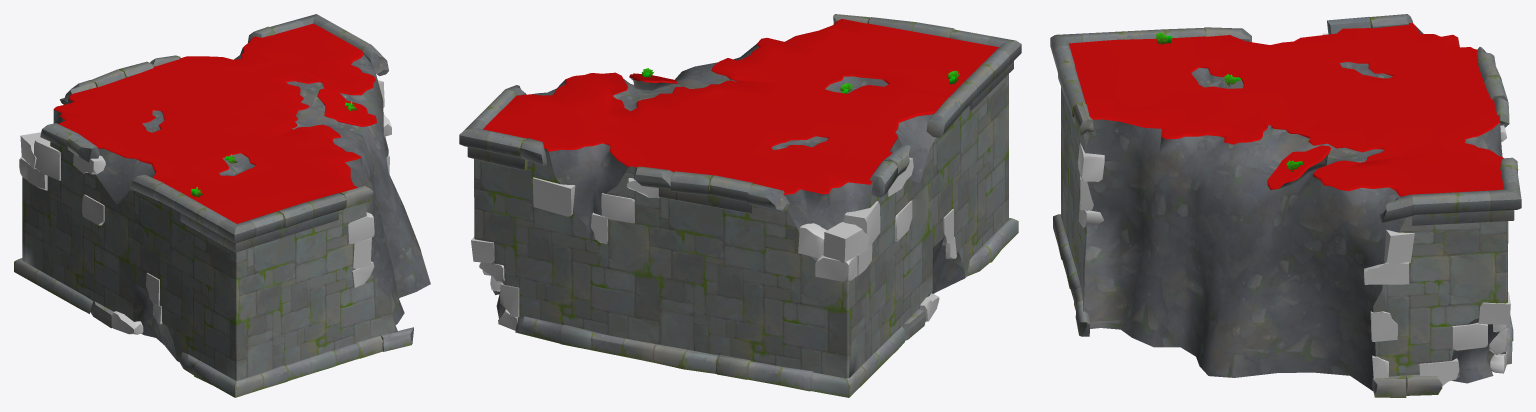
File: Area_MdBuild_SdPlatform11_01_Group.fbx
3 renders of one model, left to right at view 1: azimuth 30°, elevation 25°; view 2: azimuth 150°, elevation 25°; view 3: azimuth 270°, elevation 25°, orthographic. The views are drawn at different scales.
Visible parts, largest first — view 1: Area_MdBuild_SdPlatform11_01_Lod0; view 2: Area_MdBuild_SdPlatform11_01_Lod0; view 3: Area_MdBuild_SdPlatform11_01_Lod0.
Part boxes in pixels (left/top/right/bottom): Area_MdBuild_SdPlatform11_01_Lod0: left=14, top=14, right=430, bottom=397; Area_MdBuild_SdPlatform11_01_Lod0: left=459, top=14, right=1021, bottom=397; Area_MdBuild_SdPlatform11_01_Lod0: left=1050, top=14, right=1521, bottom=397.
Bounding box in the file's own units: 21.72 × 10.9 × 22.78.
